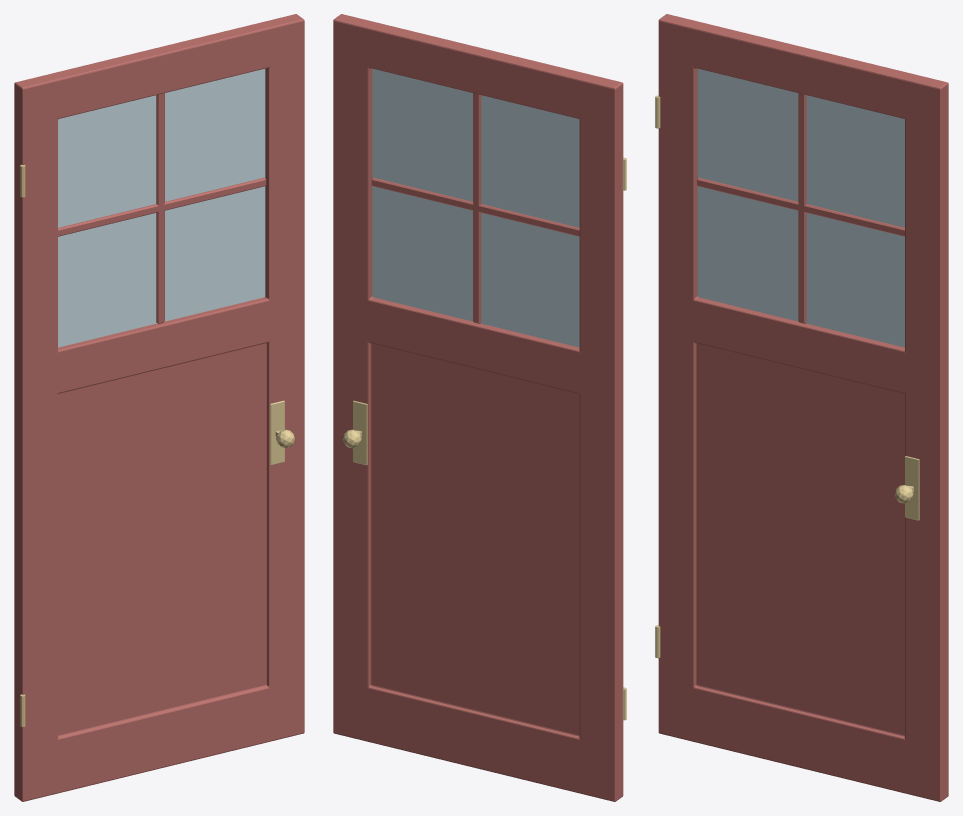
Rendered from door_leaf_entrance_b.glb.
The picture shows the model from 3 angles, left to right: view 1: azimuth 30°, elevation 25°; view 2: azimuth 150°, elevation 25°; view 3: azimuth 330°, elevation 25°; orthographic projection.
Parts seen in each view (by area): view 1: door_leaf_entrance_b_door_b, door_leaf_entrance_b_glass, door_leaf_entrance_b_brass; view 2: door_leaf_entrance_b_door_b, door_leaf_entrance_b_glass, door_leaf_entrance_b_brass; view 3: door_leaf_entrance_b_door_b, door_leaf_entrance_b_glass, door_leaf_entrance_b_brass.
Part boxes in pixels (x1=…): door_leaf_entrance_b_door_b: x1=14, y1=14, x2=304, y2=801; door_leaf_entrance_b_glass: x1=58, y1=68, x2=265, y2=347; door_leaf_entrance_b_brass: x1=20, y1=164, x2=294, y2=726; door_leaf_entrance_b_door_b: x1=333, y1=14, x2=623, y2=801; door_leaf_entrance_b_glass: x1=372, y1=68, x2=579, y2=347; door_leaf_entrance_b_brass: x1=343, y1=157, x2=626, y2=720; door_leaf_entrance_b_door_b: x1=658, y1=14, x2=948, y2=801; door_leaf_entrance_b_glass: x1=697, y1=68, x2=904, y2=347; door_leaf_entrance_b_brass: x1=655, y1=95, x2=919, y2=658.
Size of the model in its own units: 0.968 by 2.32 by 0.206.
